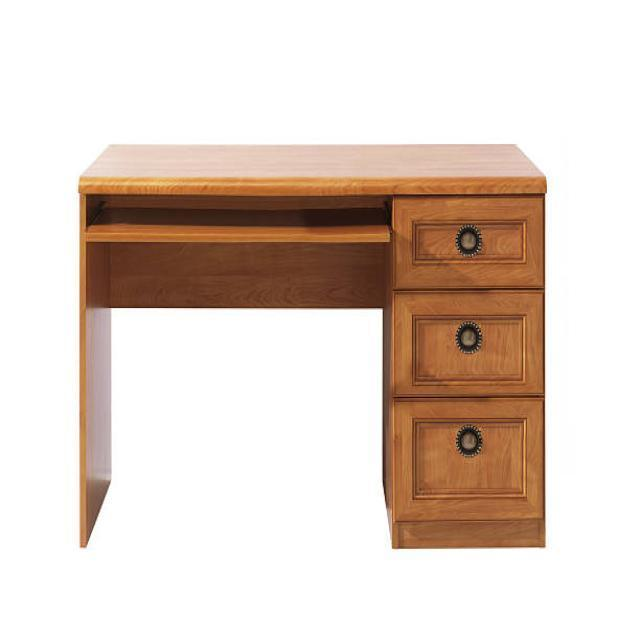table: (77, 141, 547, 549)
